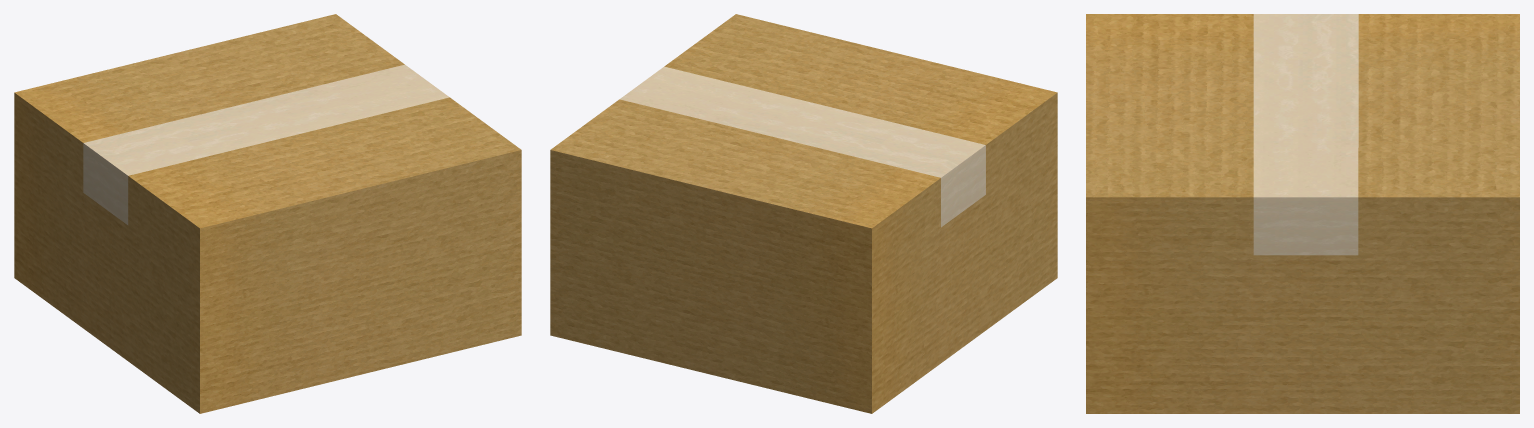
The model's file is Cardboard_Box_Platform.fbx.
3 renders of one model, left to right at view 1: azimuth 30°, elevation 25°; view 2: azimuth 150°, elevation 25°; view 3: azimuth 270°, elevation 25°, orthographic. The views are drawn at different scales.
Visible parts, largest first — view 1: Cardboard_Box_4; view 2: Cardboard_Box_4; view 3: Cardboard_Box_4.
Boxes of the visible parts, x1,y1,x2,y2 form: Cardboard_Box_4: (14, 14, 521, 413); Cardboard_Box_4: (550, 14, 1057, 413); Cardboard_Box_4: (1086, 14, 1519, 413).
Size of the model in its own units: 72.03 by 39.7 by 72.03.
